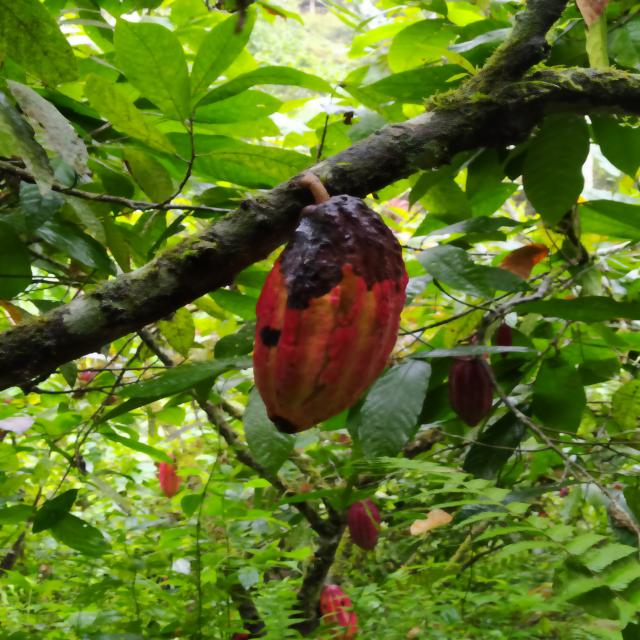Fitoftora: (251, 195, 409, 434)
Sana: (448, 357, 493, 427), (319, 584, 357, 640), (344, 497, 384, 550), (157, 451, 183, 498)
